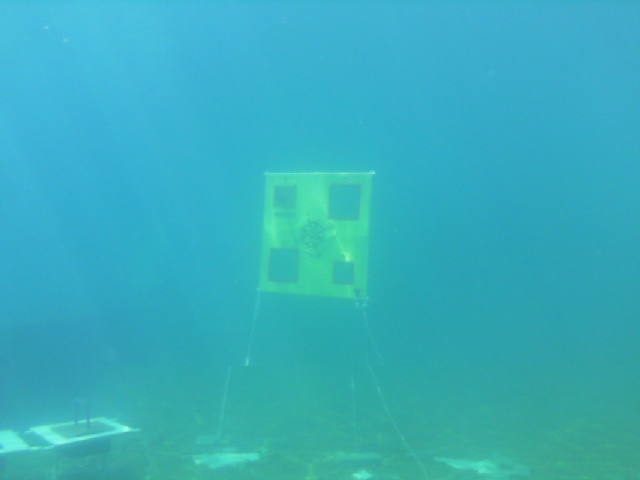bin: (27, 411, 143, 450)
bin_cover: (50, 392, 123, 445)
torpedo_cover: (271, 183, 299, 211)
torpedo_hole: (329, 182, 362, 222), (267, 246, 300, 286), (271, 183, 298, 215), (331, 259, 357, 286)
torpedo_target: (255, 165, 378, 310)
